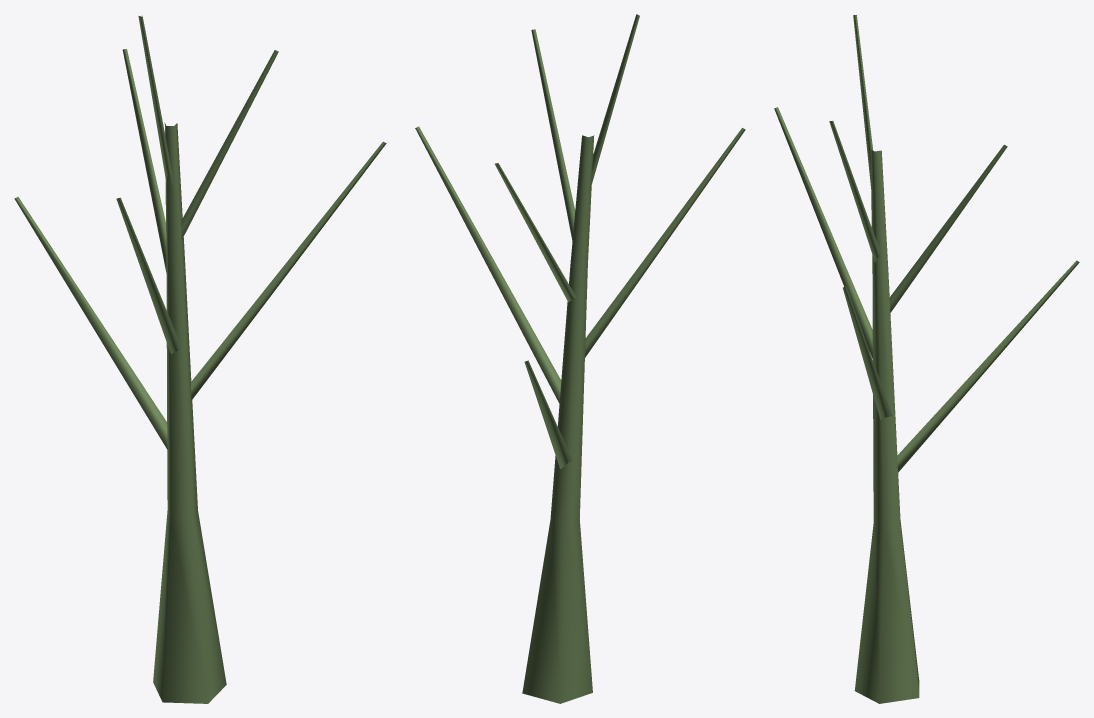
Rendered from tree_s0_lod2.glb.
3 renders of one model, left to right at view 1: azimuth 30°, elevation 25°; view 2: azimuth 150°, elevation 25°; view 3: azimuth 270°, elevation 25°, orthographic. The views are drawn at different scales.
Bounding box in the file's own units: 4.78 × 10.5 × 4.49.
